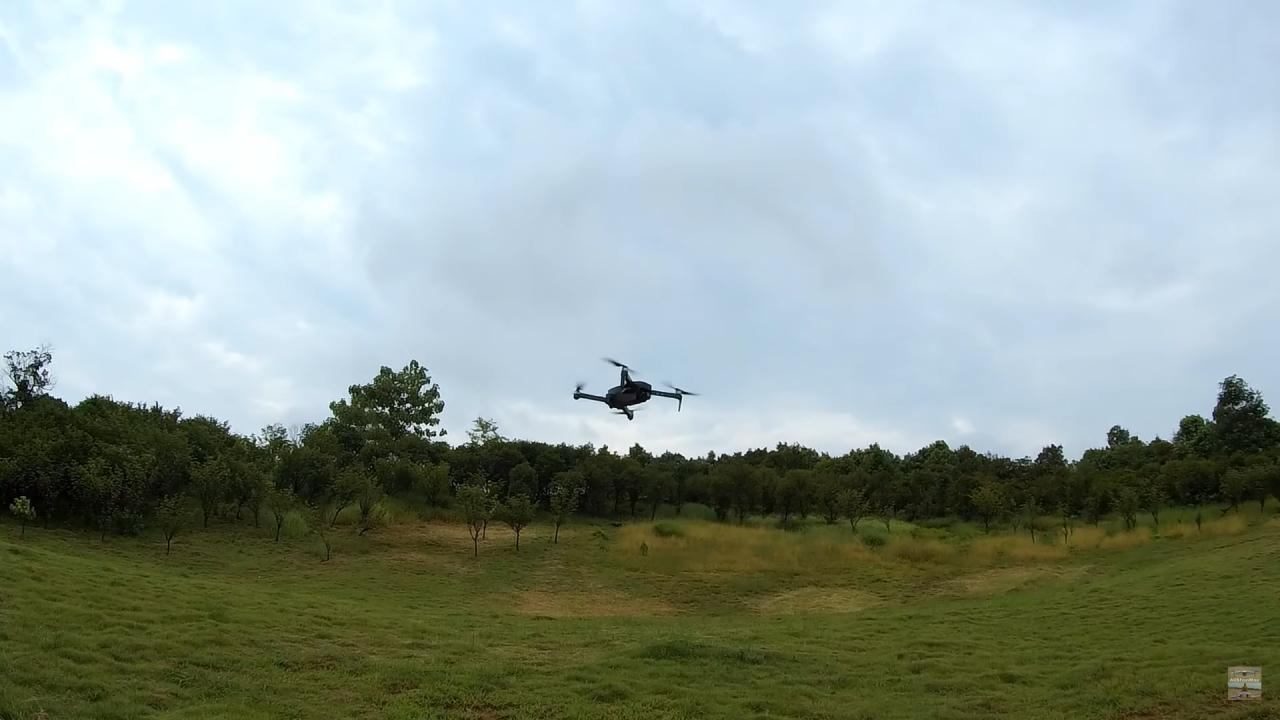Drone: (556, 348, 712, 432)
